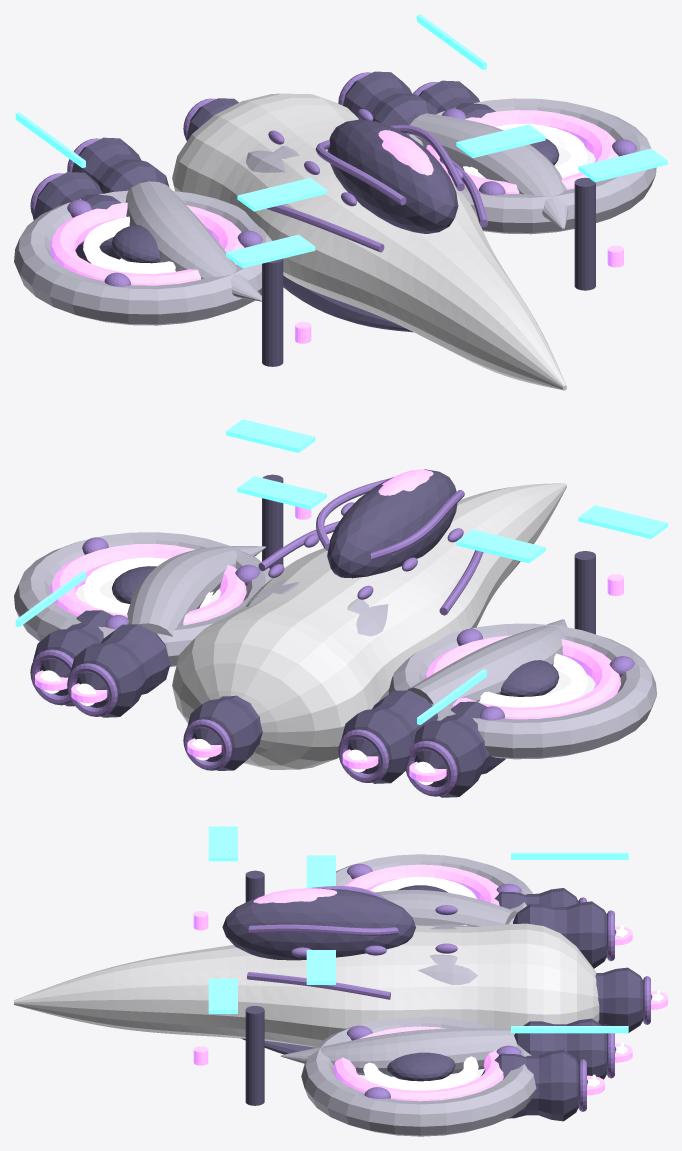
File: SL_KENSEI_HQ.glb
3 views of the same model, one above another, from view 1: azimuth 30°, elevation 25°; view 2: azimuth 150°, elevation 25°; view 3: azimuth 270°, elevation 25° (orthographic). The views are drawn at different scales.
Visible parts, largest first — view 1: 00_FUSELAGEM_MONOCOQUE, 30_ARCO_GRAVITACIONAL_E, 03_JANELA_DA_CABINE, V59 trim baked, 30_ARCO_GRAVITACIONAL_D, 21_NACELA_E, 21_NACELA_D, 31_BANDA_DE_ENERGIA_E, 31_BANDA_DE_ENERGIA_D, 20_PROPULSOR_LATERAL_D_cowl, 20_PROPULSOR_LATERAL_E_cowl, 34_IMPULSO_E_cowl (+14 smaller); view 2: 00_FUSELAGEM_MONOCOQUE, 30_ARCO_GRAVITACIONAL_E, 03_JANELA_DA_CABINE, V59 trim baked, 30_ARCO_GRAVITACIONAL_D, 21_NACELA_D, 21_NACELA_E, 20_PROPULSOR_LATERAL_D_cowl, 31_BANDA_DE_ENERGIA_D, 20_PROPULSOR_LATERAL_E_cowl, 34_IMPULSO_E_cowl, 31_BANDA_DE_ENERGIA_E (+19 smaller); view 3: 00_FUSELAGEM_MONOCOQUE, 30_ARCO_GRAVITACIONAL_D, 03_JANELA_DA_CABINE, V59 trim baked, 21_NACELA_D, 34_IMPULSO_D_cowl, 21_NACELA_E, 20_PROPULSOR_LATERAL_E_cowl, 31_BANDA_DE_ENERGIA_D, 20_PROPULSOR_LATERAL_D_cowl, 06_TURBINA_PRINCIPAL_cowl, 31_BANDA_DE_ENERGIA_E (+11 smaller).
Part boxes in pixels (x1,y1,x2,y2): 00_FUSELAGEM_MONOCOQUE: (172, 93, 566, 390); 30_ARCO_GRAVITACIONAL_E: (14, 190, 271, 325); 03_JANELA_DA_CABINE: (327, 119, 458, 233); V59 trim baked: (15, 14, 667, 268); 30_ARCO_GRAVITACIONAL_D: (407, 98, 656, 234); 21_NACELA_E: (125, 181, 261, 301); 21_NACELA_D: (405, 113, 568, 229); 31_BANDA_DE_ENERGIA_E: (50, 202, 244, 285); 31_BANDA_DE_ENERGIA_D: (426, 110, 618, 193); 20_PROPULSOR_LATERAL_D_cowl: (343, 71, 437, 125); 20_PROPULSOR_LATERAL_E_cowl: (72, 137, 169, 193); 34_IMPULSO_E_cowl: (33, 172, 120, 263); 00_FUSELAGEM_MONOCOQUE: (172, 483, 566, 769); 30_ARCO_GRAVITACIONAL_E: (388, 623, 656, 759); 03_JANELA_DA_CABINE: (327, 469, 457, 578); V59 trim baked: (15, 419, 667, 724); 30_ARCO_GRAVITACIONAL_D: (14, 532, 272, 666); 21_NACELA_D: (127, 546, 265, 636); 21_NACELA_E: (408, 619, 566, 707); 20_PROPULSOR_LATERAL_D_cowl: (70, 624, 170, 717); 31_BANDA_DE_ENERGIA_D: (50, 543, 246, 625); 20_PROPULSOR_LATERAL_E_cowl: (341, 690, 437, 783); 34_IMPULSO_E_cowl: (414, 701, 505, 797); 31_BANDA_DE_ENERGIA_E: (424, 635, 620, 719); 00_FUSELAGEM_MONOCOQUE: (14, 923, 599, 1047); 30_ARCO_GRAVITACIONAL_D: (301, 1016, 536, 1136); 03_JANELA_DA_CABINE: (222, 888, 415, 960); V59 trim baked: (208, 826, 628, 1033); 21_NACELA_D: (280, 1028, 517, 1076); 34_IMPULSO_D_cowl: (481, 1049, 587, 1121); 21_NACELA_E: (375, 889, 516, 926); 20_PROPULSOR_LATERAL_E_cowl: (513, 901, 616, 968); 31_BANDA_DE_ENERGIA_D: (333, 1026, 503, 1101); 20_PROPULSOR_LATERAL_D_cowl: (514, 1018, 616, 1079); 06_TURBINA_PRINCIPAL_cowl: (595, 967, 652, 1032); 31_BANDA_DE_ENERGIA_E: (343, 864, 499, 925).
Size of the model in its own units: 5.52 by 1.73 by 5.81.
